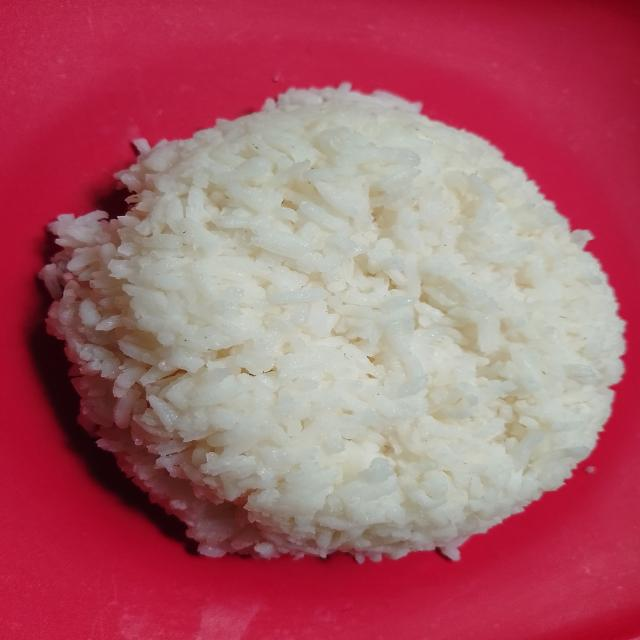Chicken -Chicken Inasal-: (45, 84, 627, 558)
